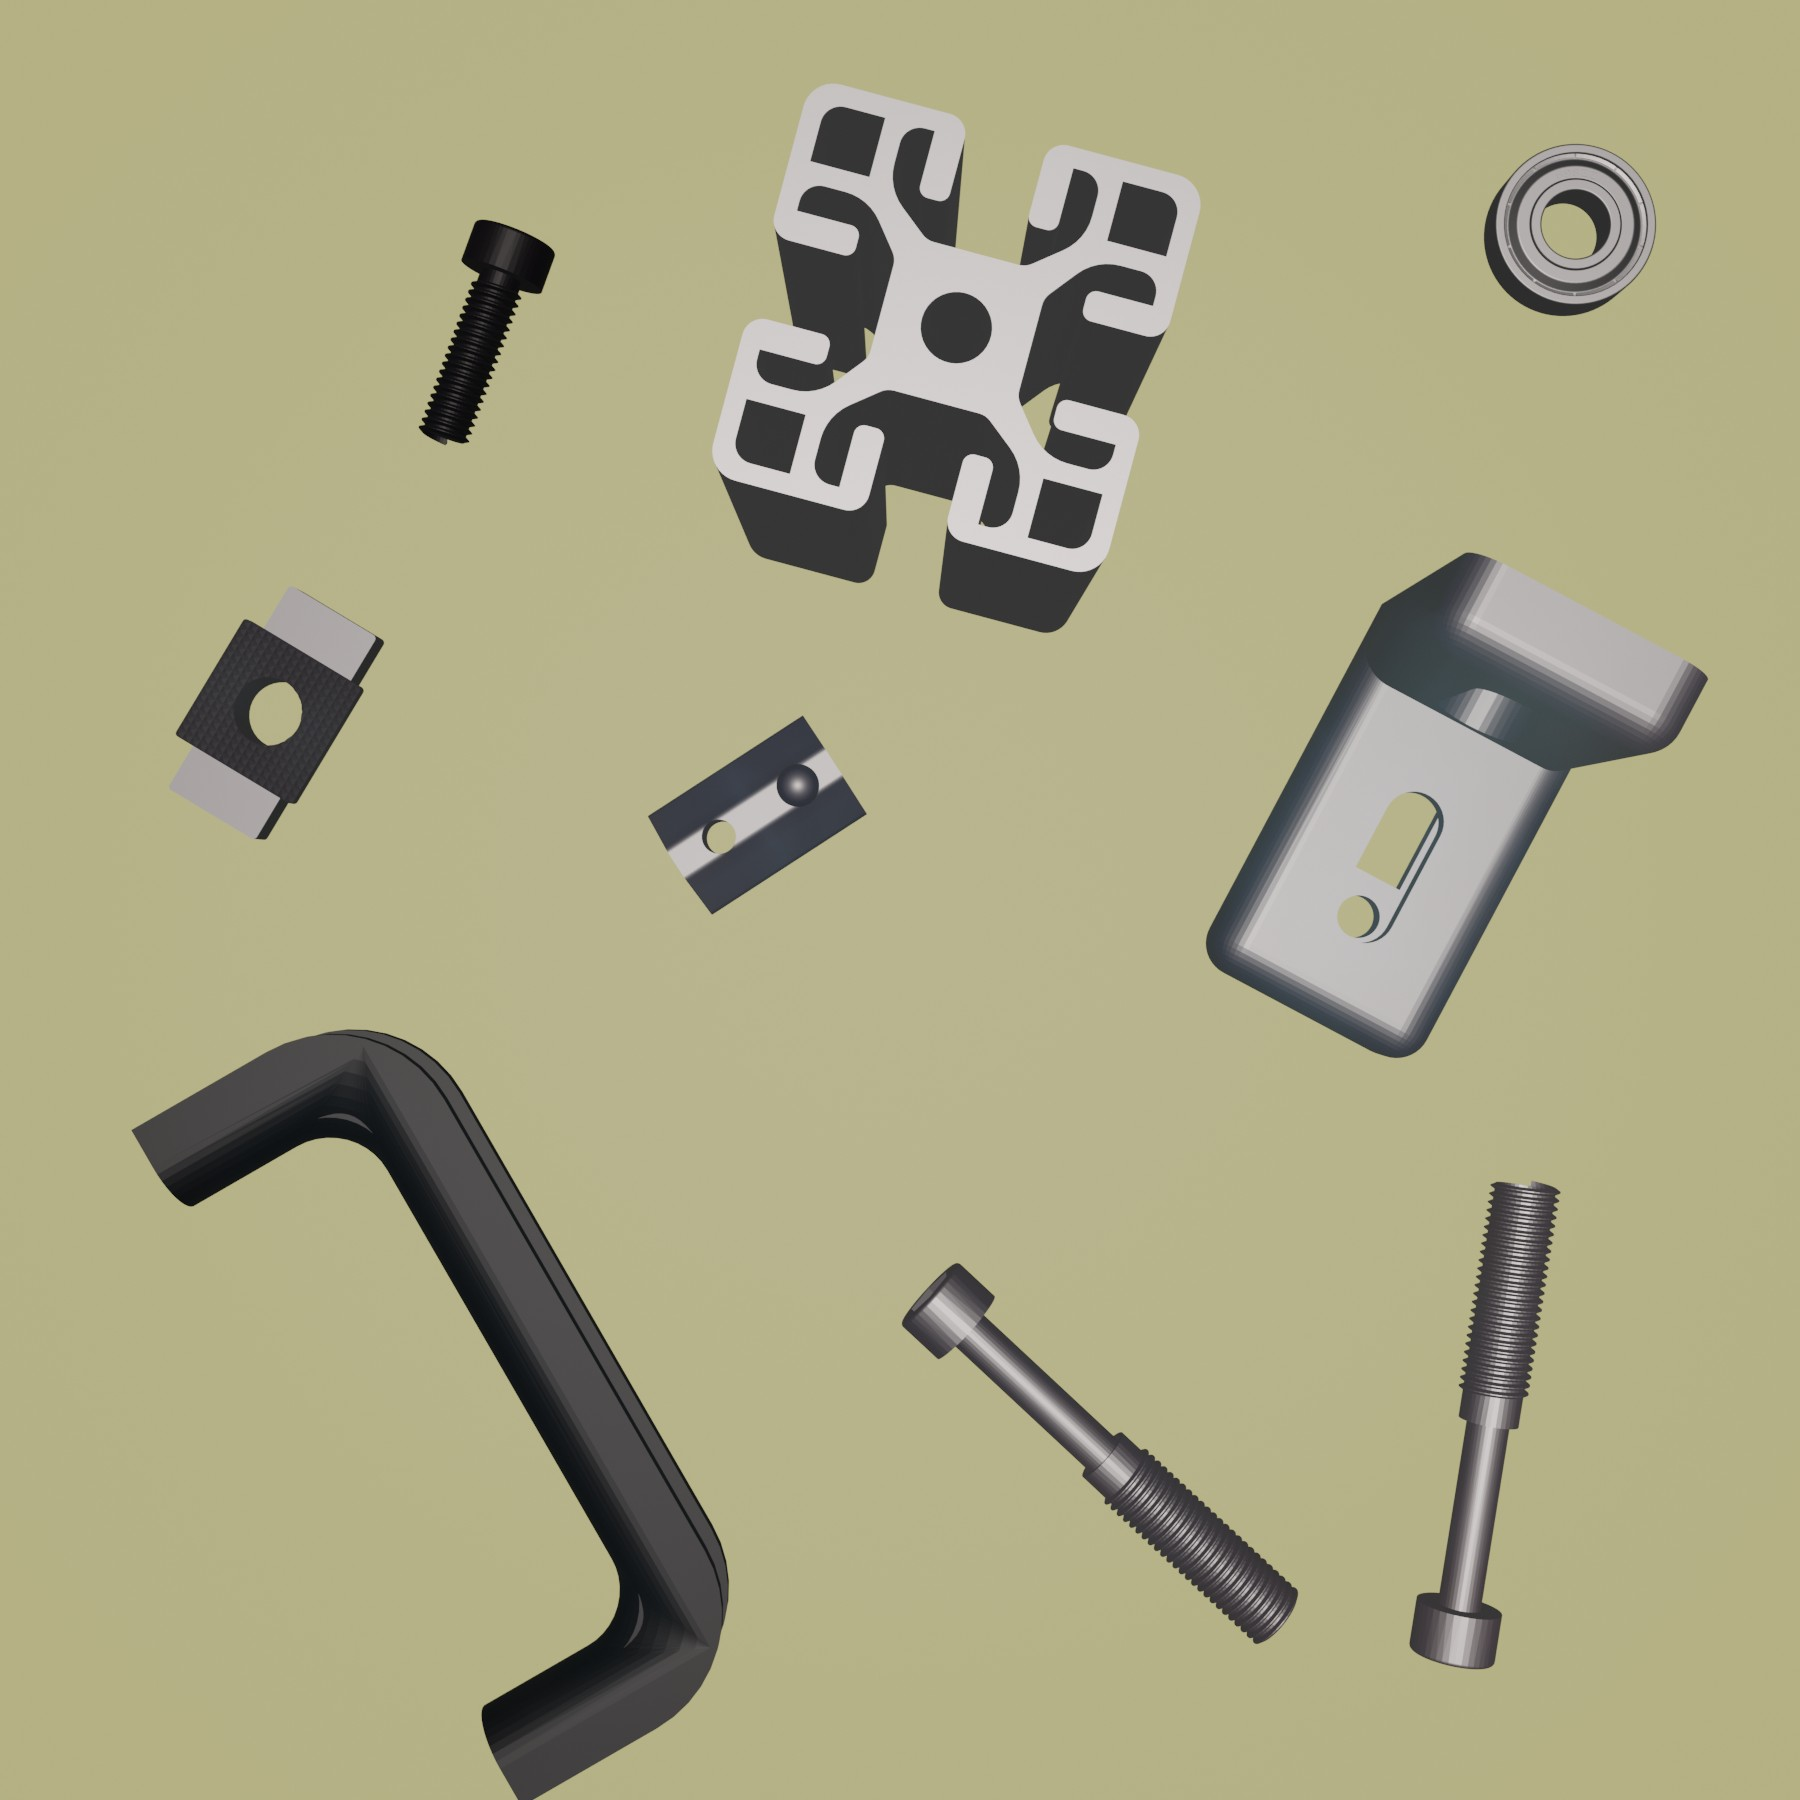Aluminium Extension: (712, 81, 1205, 635)
Ball Bearing: (1482, 138, 1662, 318)
Multiwinkel: (1203, 551, 1709, 1062)
Pull Handle: (130, 1027, 734, 1800)
Shoulder Socket Head Cap Screw: (898, 1259, 1302, 1647), (1408, 1174, 1563, 1671)
Socket Head Cap Screw: (415, 214, 559, 450)
T Nut Square: (166, 580, 386, 842)
T Spring Nut: (648, 712, 869, 916)
